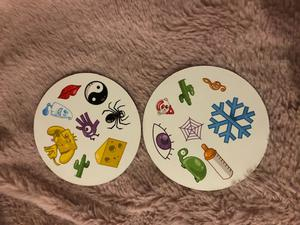araignee: (100, 99, 131, 133)
biberon: (199, 141, 236, 181)
bouche: (56, 81, 83, 100)
cactus: (173, 76, 198, 107), (73, 153, 90, 178)
chien: (42, 124, 80, 165)
clown: (153, 96, 176, 118)
dooble: (74, 109, 101, 142)
fantome: (42, 100, 73, 123)
flocon: (205, 94, 257, 144)
fromage: (94, 137, 129, 169)
note: (200, 76, 231, 95)
oeuil: (150, 120, 176, 161)
toile: (177, 115, 205, 144)
tortue: (176, 145, 208, 184)
ying_yang: (83, 79, 108, 106)
